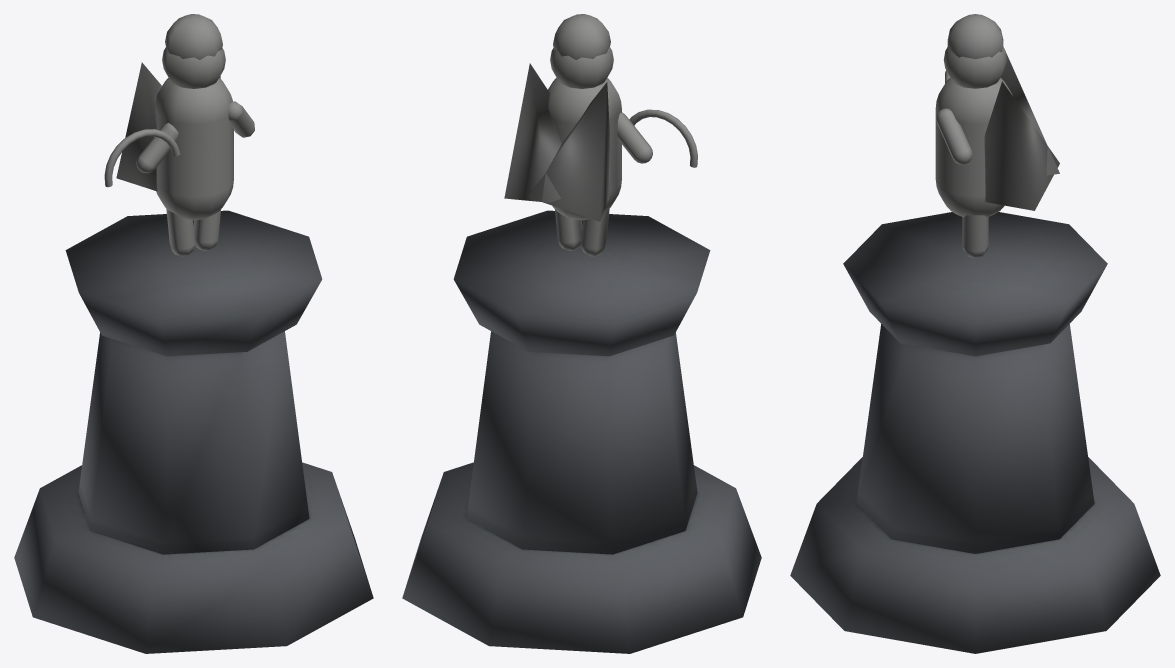
Rendered from cupid-authored-body-tripo-original.glb.
The picture shows the model from 3 angles, left to right: view 1: azimuth 30°, elevation 25°; view 2: azimuth 150°, elevation 25°; view 3: azimuth 270°, elevation 25°; orthographic projection.
Visible parts, largest first — view 1: Authored_surface_020; view 2: Authored_surface_020; view 3: Authored_surface_020.
Part boxes in pixels (bbox=[...]): Authored_surface_020: bbox=[14, 14, 373, 653]; Authored_surface_020: bbox=[402, 14, 761, 653]; Authored_surface_020: bbox=[790, 14, 1160, 653].
Size of the model in its own units: 0.6009 by 1 by 0.6009.
Materials: 1 (1 with a texture image).
